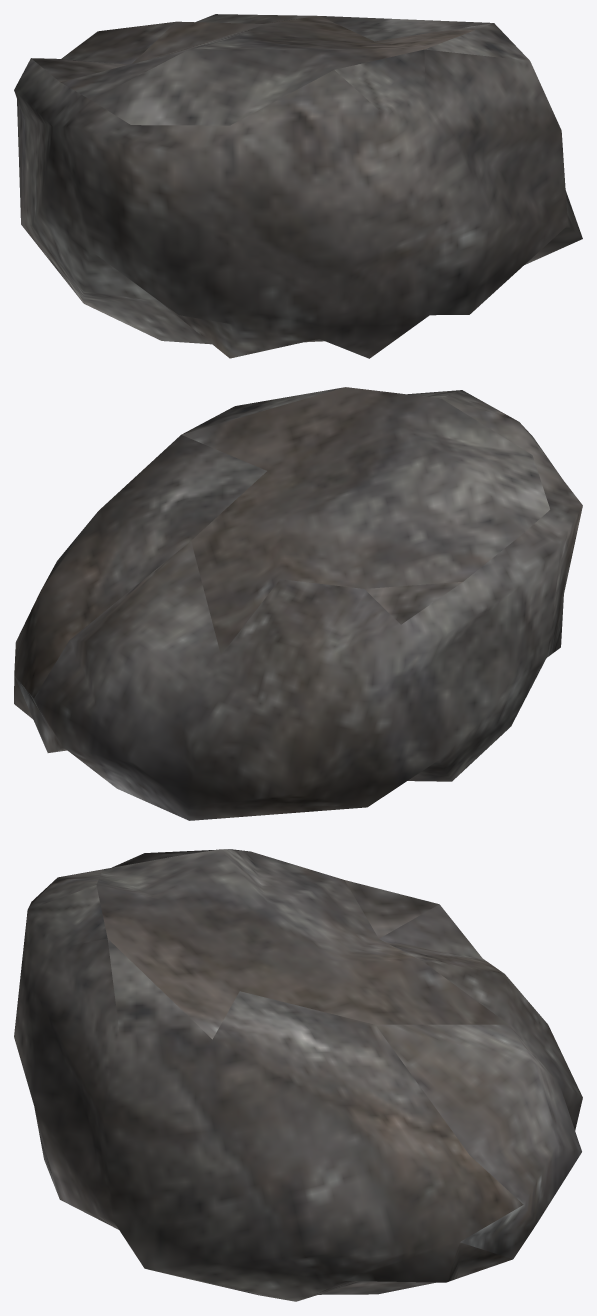
Rendered from N_Rock_14.fbx.
3 views of the same model, one above another, from view 1: azimuth 30°, elevation 25°; view 2: azimuth 150°, elevation 25°; view 3: azimuth 270°, elevation 25° (orthographic). The views are drawn at different scales.
Visible parts, largest first — view 1: Large_13; view 2: Large_13; view 3: Large_13.
Part boxes in pixels (bbox=[...]): Large_13: bbox=[14, 14, 582, 358]; Large_13: bbox=[14, 387, 582, 820]; Large_13: bbox=[14, 849, 582, 1301].
Bounding box in the file's own units: 221 × 135 × 216.
